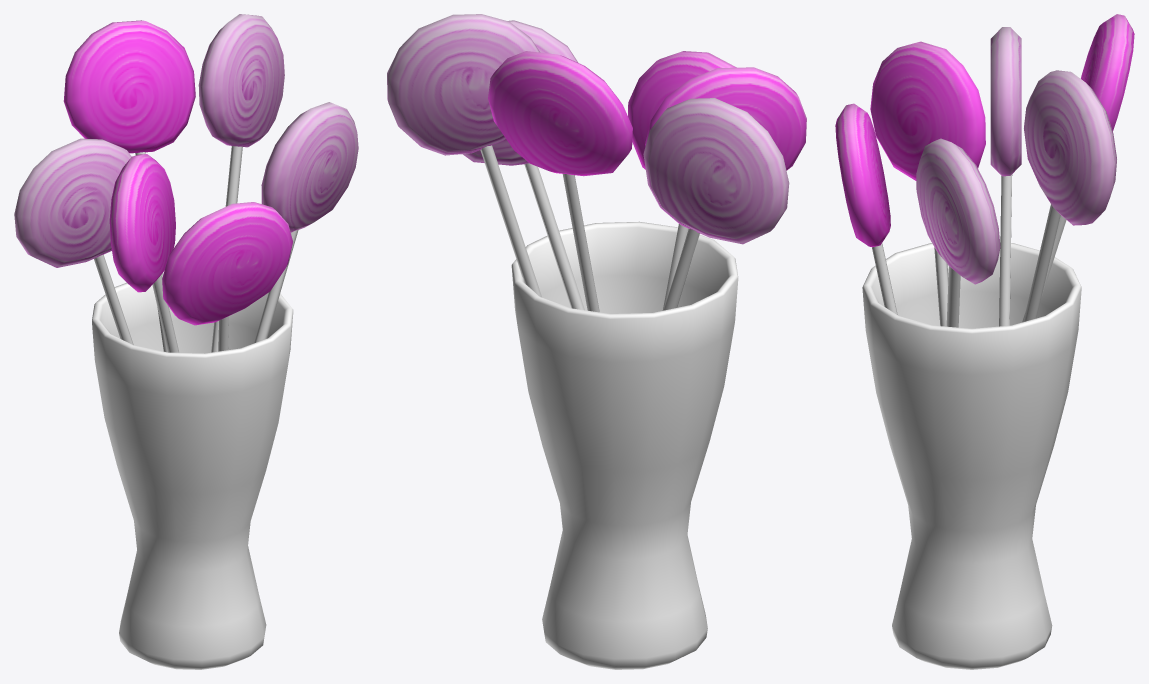
File: BuffetCandy01_5.FBX
3 views of the same model, side by side, from view 1: azimuth 30°, elevation 25°; view 2: azimuth 150°, elevation 25°; view 3: azimuth 270°, elevation 25° (orthographic). The views are drawn at different scales.
Visible parts, largest first — view 1: BuffetCandy01_5; view 2: BuffetCandy01_5; view 3: BuffetCandy01_5.
Boxes of the visible parts, x1=… form: BuffetCandy01_5: x1=14, y1=14, x2=358, y2=669; BuffetCandy01_5: x1=387, y1=14, x2=806, y2=669; BuffetCandy01_5: x1=835, y1=14, x2=1134, y2=669.
Size of what is drawn, in the model's own units: 0.1872 by 0.3101 by 0.1361.
